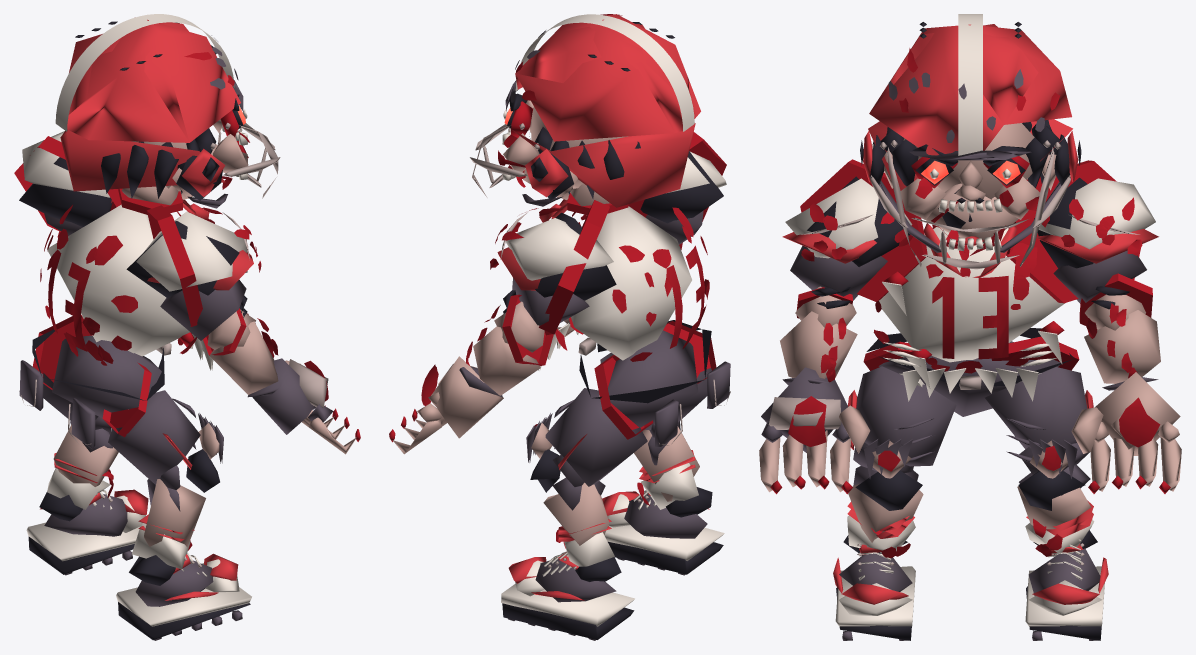
The picture shows the model from 3 angles, left to right: view 1: azimuth 30°, elevation 25°; view 2: azimuth 150°, elevation 25°; view 3: azimuth 270°, elevation 25°; orthographic projection. The views are drawn at different scales.
Visible parts, largest first — view 1: head, torso, armR, footR, hip, footL, legR, shinR, armL, handR, foreArmR, shinL (+6 smaller); view 2: head, torso, hip, footL, armL, footR, legL, shinL, handL, foreArmL, armR, shinR (+6 smaller); view 3: head, torso, armL, armR, handR, handL, legR, legL, footL, footR, shinR, foreArmL (+8 smaller).
Boxes of the visible parts, x1=… form: head: x1=55, y1=14, x2=280, y2=208; torso: x1=40, y1=199, x2=213, y2=370; armR: x1=126, y1=207, x2=261, y2=340; footR: x1=116, y1=553, x2=251, y2=640; hip: x1=19, y1=329, x2=171, y2=449; footL: x1=26, y1=489, x2=148, y2=575; legR: x1=108, y1=390, x2=223, y2=484; shinR: x1=132, y1=449, x2=219, y2=569; armL: x1=19, y1=131, x2=112, y2=235; handR: x1=252, y1=358, x2=360, y2=454; foreArmR: x1=207, y1=309, x2=285, y2=397; shinL: x1=47, y1=417, x2=118, y2=509; head: x1=470, y1=14, x2=700, y2=215; torso: x1=538, y1=199, x2=709, y2=370; hip: x1=578, y1=320, x2=730, y2=446; footL: x1=501, y1=551, x2=634, y2=640; armL: x1=490, y1=208, x2=616, y2=325; footR: x1=602, y1=487, x2=724, y2=575; legL: x1=526, y1=388, x2=647, y2=486; shinL: x1=530, y1=449, x2=614, y2=566; handL: x1=389, y1=356, x2=503, y2=454; foreArmL: x1=459, y1=301, x2=544, y2=397; armR: x1=640, y1=151, x2=726, y2=244; shinR: x1=634, y1=421, x2=699, y2=509; head: x1=860, y1=14, x2=1081, y2=269; torso: x1=873, y1=223, x2=1065, y2=401; armL: x1=1034, y1=177, x2=1158, y2=309; armR: x1=782, y1=176, x2=913, y2=308; handR: x1=759, y1=367, x2=870, y2=494; handL: x1=1071, y1=372, x2=1181, y2=493; legR: x1=848, y1=366, x2=956, y2=478; legL: x1=985, y1=367, x2=1093, y2=478; footL: x1=1025, y1=530, x2=1108, y2=640; footR: x1=833, y1=535, x2=915, y2=640; shinR: x1=847, y1=442, x2=923, y2=558; foreArmL: x1=1084, y1=294, x2=1160, y2=390.
Bounding box in the file's own units: 0.752 × 1.8 × 1.15.
